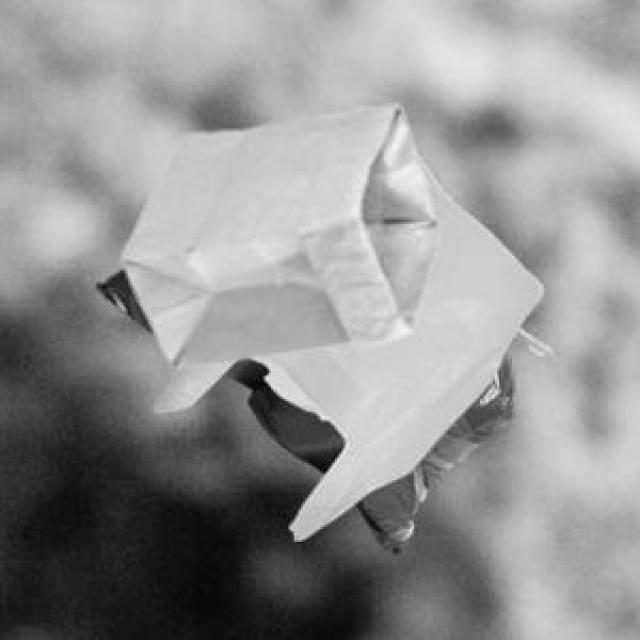miscellaneous trash: (92, 262, 548, 550)
paper: (117, 100, 435, 363)
